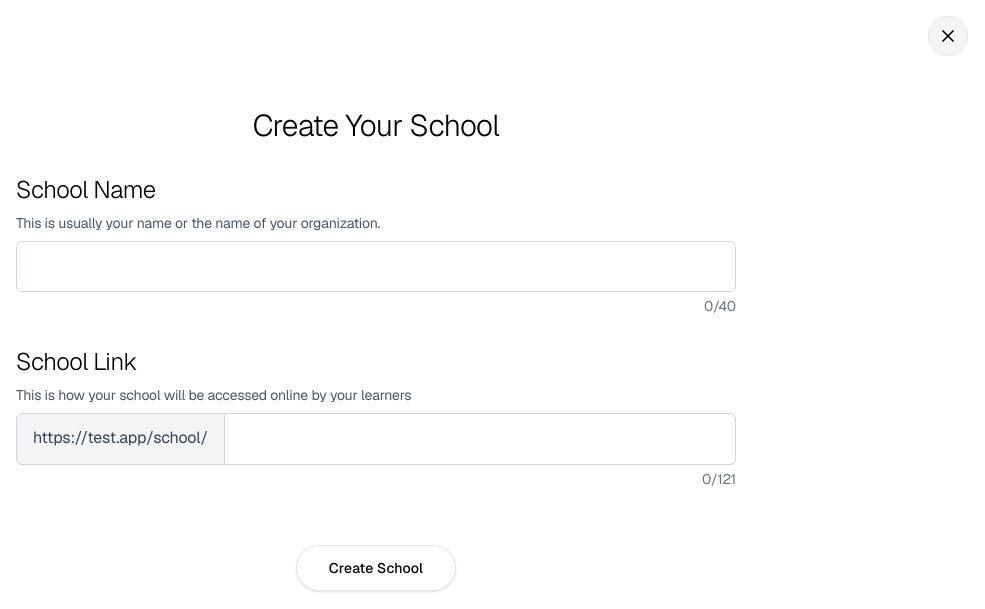
Test: CreateSchool Page › Form Submission › should handle slug already exists error
The image size is (985, 609).
Type "Test School" into the 1st field at (376, 267), box [16,241,736,292]
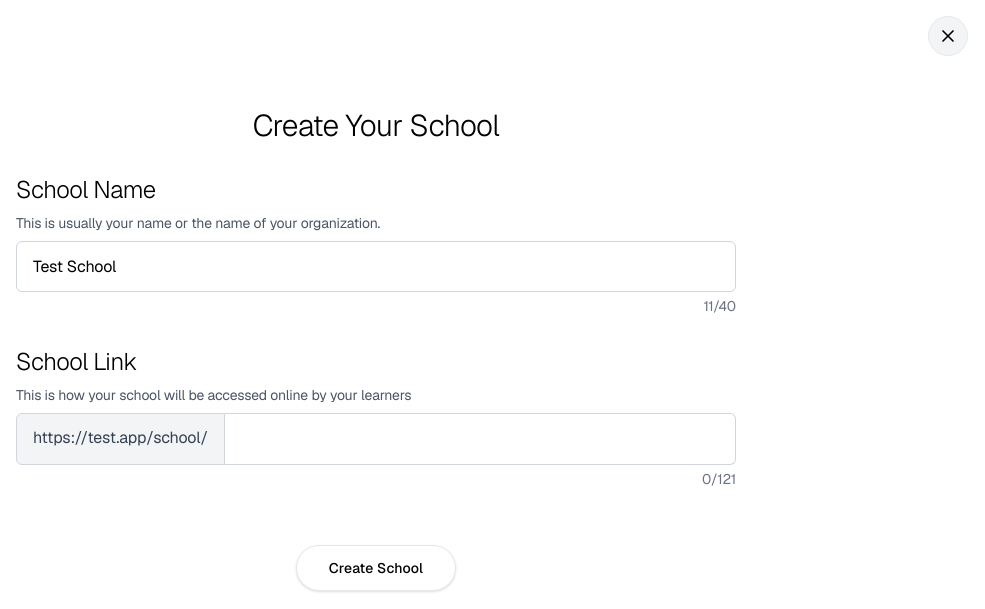
Type "existing-slug" into the field with id "slug" at (480, 439), box [225,413,736,465]
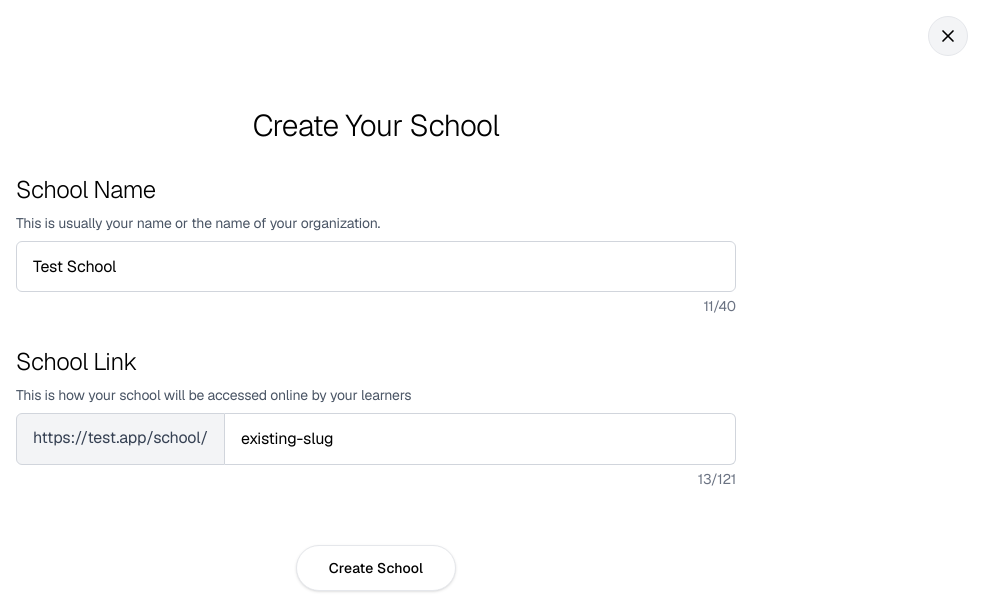
Click the button "Create School" at (376, 568), box [296,545,456,591]
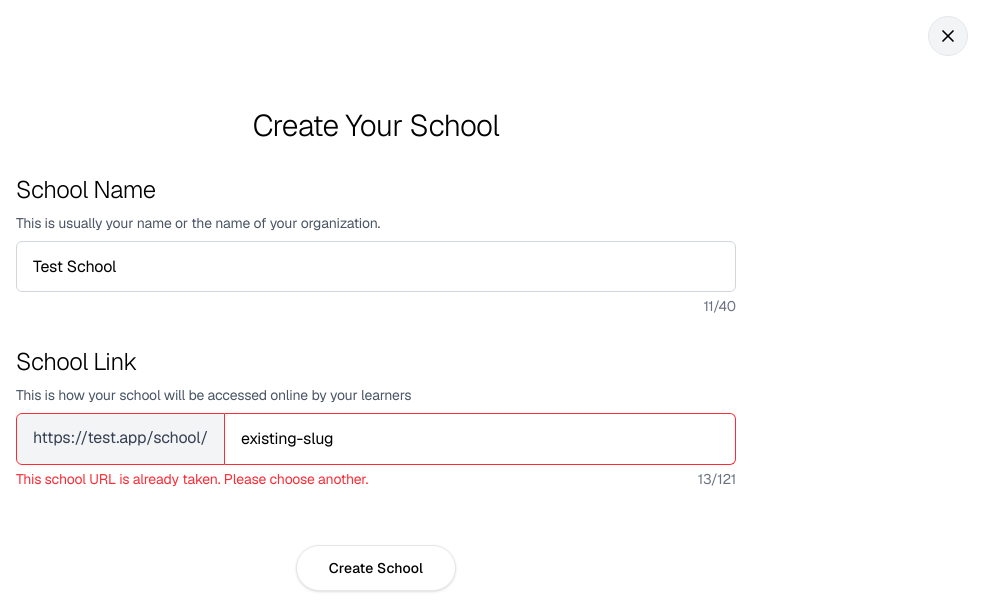
Expected: the text "This school URL is already taken. Please choose another." is shown, [16,469,368,489]
